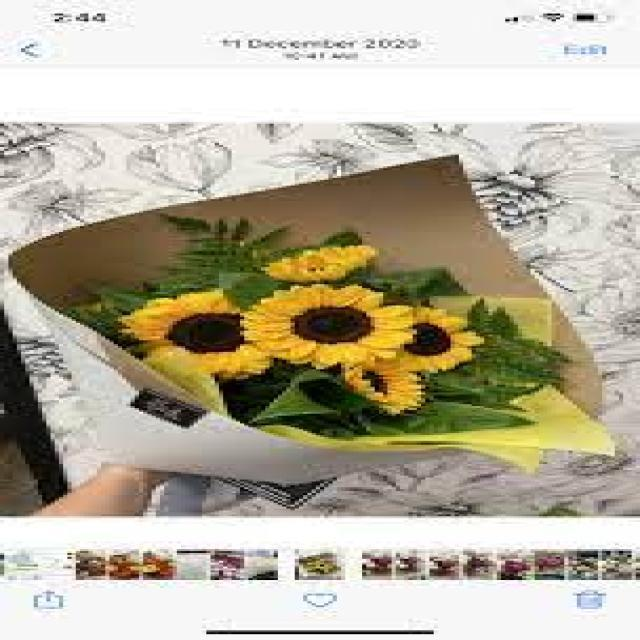sunflower: (235, 284, 412, 368), (117, 288, 271, 379), (370, 306, 484, 372), (266, 245, 375, 282), (346, 362, 426, 410), (295, 552, 337, 574)
